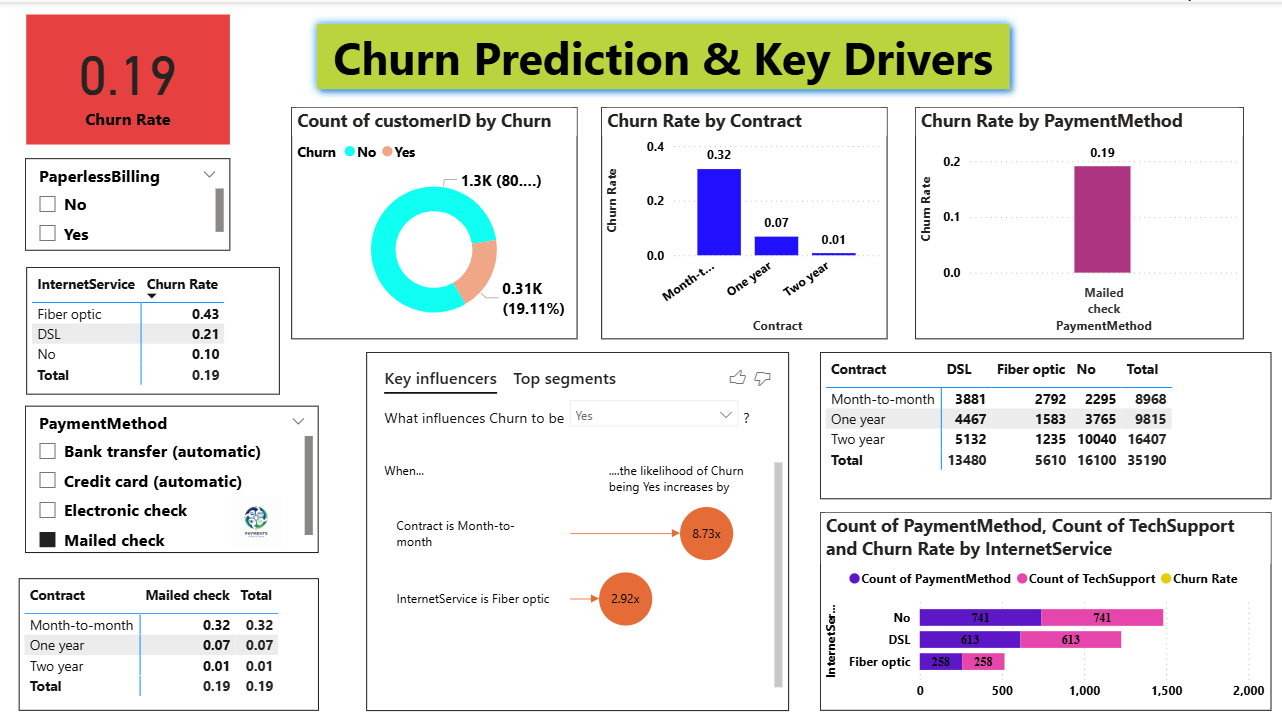

This screenshot's page, from the dashboard's own definition file:
{"tool":"powerbi","page":{"name":"Churn Prediction & Key Drivers","canvas":[1280,720],"ordinal":3},"visuals":[{"type":"card","fields":{"Values":["WA_Fn-UseC_-Telco-Customer-Churn.Churn Rate"]},"box":[30.6,12.2,199.3,127.2],"z":0},{"type":"pieChart","fields":{"Y":["CountNonNull(WA_Fn-UseC_-Telco-Customer-Churn.customerID)"],"Category":["WA_Fn-UseC_-Telco-Customer-Churn.Churn"]},"box":[289.8,102.7,280,227.4],"z":1000},{"type":"clusteredColumnChart","fields":{"Category":["WA_Fn-UseC_-Telco-Customer-Churn.Contract"],"Y":["WA_Fn-UseC_-Telco-Customer-Churn.Churn Rate"]},"box":[593.1,102.7,280,227.4],"z":2000},{"type":"clusteredColumnChart","fields":{"Category":["WA_Fn-UseC_-Telco-Customer-Churn.PaymentMethod"],"Y":["WA_Fn-UseC_-Telco-Customer-Churn.Churn Rate"]},"box":[900,102.7,321.6,227.4],"z":3000},{"type":"pivotTable","fields":{"Rows":["WA_Fn-UseC_-Telco-Customer-Churn.InternetService"],"Values":["WA_Fn-UseC_-Telco-Customer-Churn.Churn Rate"]},"box":[30.6,259.2,248.2,124.7],"z":4000},{"type":"keyDriversVisual","fields":{"Target":["WA_Fn-UseC_-Telco-Customer-Churn.Churn"],"ExplainBy":["WA_Fn-UseC_-Telco-Customer-Churn.Contract","WA_Fn-UseC_-Telco-Customer-Churn.InternetService","WA_Fn-UseC_-Telco-Customer-Churn.PaymentMethod"]},"box":[363.2,342.4,413.3,351],"z":5000},{"type":"slicer","fields":{"Values":["WA_Fn-UseC_-Telco-Customer-Churn.PaymentMethod"]},"box":[29.3,395,287.4,144.3],"z":6000},{"type":"slicer","fields":{"Values":["WA_Fn-UseC_-Telco-Customer-Churn.PaperlessBilling"]},"box":[29.3,152.9,200.5,90.5],"z":7000},{"type":"pivotTable","fields":{"Rows":["WA_Fn-UseC_-Telco-Customer-Churn.Contract"],"Columns":["WA_Fn-UseC_-Telco-Customer-Churn.InternetService"],"Values":["Sum(WA_Fn-UseC_-Telco-Customer-Churn.tenure)"]},"box":[807.1,342.4,441.4,144.3],"z":8000},{"type":"pivotTable","fields":{"Rows":["WA_Fn-UseC_-Telco-Customer-Churn.Contract"],"Columns":["WA_Fn-UseC_-Telco-Customer-Churn.PaymentMethod"],"Values":["WA_Fn-UseC_-Telco-Customer-Churn.Churn Rate"]},"box":[23.2,563.7,293.5,129.6],"z":9000},{"type":"barChart","fields":{"Category":["WA_Fn-UseC_-Telco-Customer-Churn.InternetService","WA_Fn-UseC_-Telco-Customer-Churn.Contract"],"Y":["CountNonNull(WA_Fn-UseC_-Telco-Customer-Churn.PaymentMethod)","CountNonNull(WA_Fn-UseC_-Telco-Customer-Churn.TechSupport)","WA_Fn-UseC_-Telco-Customer-Churn.Churn Rate"]},"box":[807.1,498.9,441.4,194.4],"z":10000},{"type":"shape","box":[305.7,12.2,695.8,81.9],"z":11000},{"type":"image","box":[205.4,478.1,100.3,59.9],"z":12000}]}

Visuals, with their boxes in screenshot pixels (x1, y1, x2, y2), scaled from the page's 1280x720 canvas onto the 1282x718 screenshot:
card - WA_Fn-UseC_-Telco-Customer-Churn.Churn Rate: pyautogui.locateOnScreen(31, 12, 230, 139)
pieChart - CountNonNull(WA_Fn-UseC_-Telco-Customer-Churn.customerID) x WA_Fn-UseC_-Telco-Customer-Churn.Churn: pyautogui.locateOnScreen(290, 102, 571, 329)
clusteredColumnChart - WA_Fn-UseC_-Telco-Customer-Churn.Contract x WA_Fn-UseC_-Telco-Customer-Churn.Churn Rate: pyautogui.locateOnScreen(594, 102, 874, 329)
clusteredColumnChart - WA_Fn-UseC_-Telco-Customer-Churn.PaymentMethod x WA_Fn-UseC_-Telco-Customer-Churn.Churn Rate: pyautogui.locateOnScreen(901, 102, 1224, 329)
pivotTable - WA_Fn-UseC_-Telco-Customer-Churn.InternetService x WA_Fn-UseC_-Telco-Customer-Churn.Churn Rate: pyautogui.locateOnScreen(31, 258, 279, 383)
keyDriversVisual - WA_Fn-UseC_-Telco-Customer-Churn.Churn x WA_Fn-UseC_-Telco-Customer-Churn.Contract: pyautogui.locateOnScreen(364, 341, 778, 691)
slicer - WA_Fn-UseC_-Telco-Customer-Churn.PaymentMethod: pyautogui.locateOnScreen(29, 394, 317, 538)
slicer - WA_Fn-UseC_-Telco-Customer-Churn.PaperlessBilling: pyautogui.locateOnScreen(29, 152, 230, 243)
pivotTable - WA_Fn-UseC_-Telco-Customer-Churn.Contract x WA_Fn-UseC_-Telco-Customer-Churn.InternetService: pyautogui.locateOnScreen(808, 341, 1250, 485)
pivotTable - WA_Fn-UseC_-Telco-Customer-Churn.Contract x WA_Fn-UseC_-Telco-Customer-Churn.PaymentMethod: pyautogui.locateOnScreen(23, 562, 317, 691)
barChart - WA_Fn-UseC_-Telco-Customer-Churn.InternetService x WA_Fn-UseC_-Telco-Customer-Churn.Contract: pyautogui.locateOnScreen(808, 498, 1250, 691)
shape: pyautogui.locateOnScreen(306, 12, 1003, 94)
image: pyautogui.locateOnScreen(206, 477, 306, 537)
